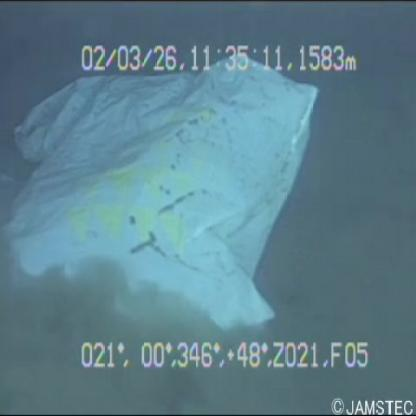Rác: (13, 48, 324, 348)
